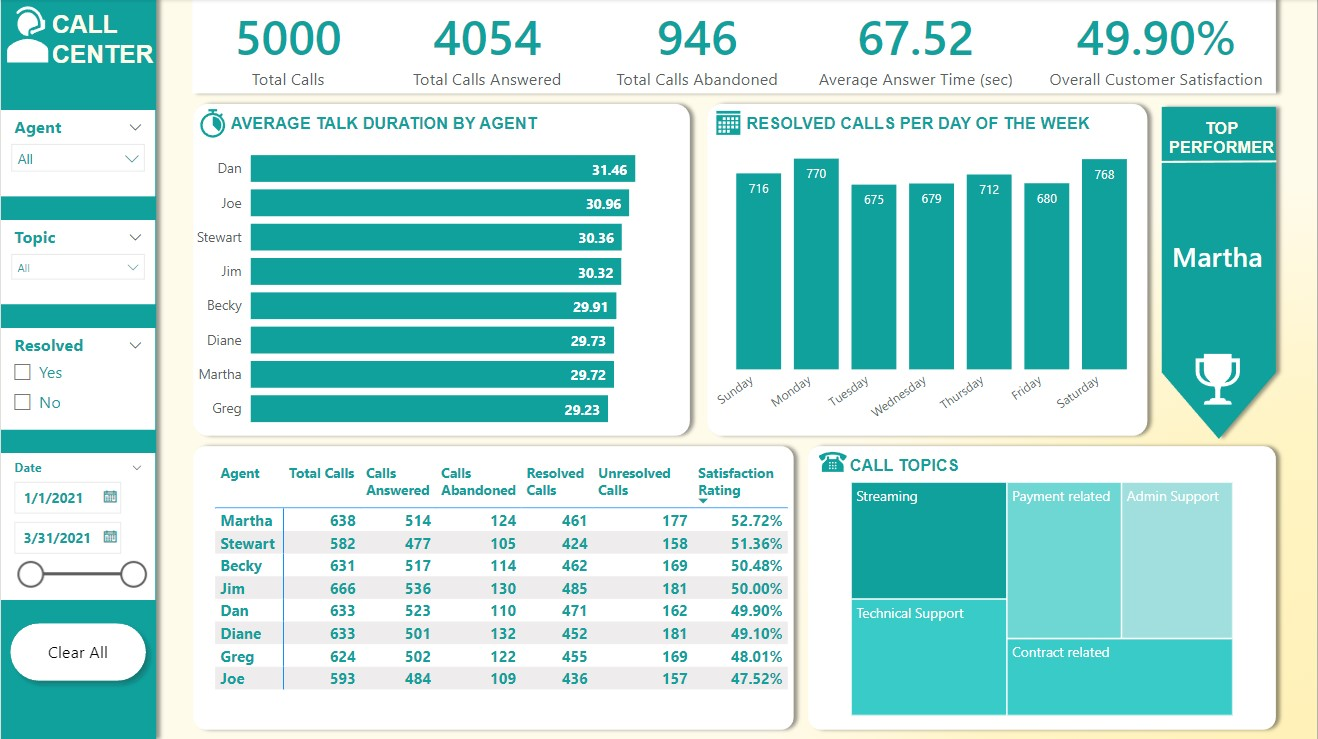

Layout of this report page (visuals, bound fields, positions):
{"tool":"powerbi","page":{"name":"Page 1","canvas":[1280,720],"ordinal":0},"visuals":[{"type":"card","fields":{"Values":["Call Center.Total Calls"]},"box":[203.4,0,152,91.2],"z":0},{"type":"card","fields":{"Values":["Call Center.Total Calls Unanswered"]},"box":[582.1,0,189.4,91.2],"z":1000},{"type":"card","fields":{"Values":["Call Center.Total Calls Answered"]},"box":[392.8,0,160.1,91.2],"z":2000},{"type":"card","fields":{"Values":["Call Center.Speed of answer in seconds"]},"box":[789,0,202.2,91.2],"z":3000},{"type":"card","fields":{"Values":["Call Center.Overall Customer Satisfaction"]},"box":[1012.3,0,222.1,91.2],"z":4000},{"type":"slicer","fields":{"Values":["Call Center.Agent"]},"box":[0,107.5,149.6,84.2],"z":5000},{"type":"slicer","fields":{"Values":["Call Center.Topic"]},"box":[0,215.1,149.6,81.8],"z":6000},{"type":"slicer","fields":{"Values":["Call Center.Resolved"]},"box":[0,320.3,149.6,99.4],"z":7000},{"type":"slicer","fields":{"Values":["Call Center.Date"]},"box":[0,441.9,149.6,142.6],"z":8000},{"type":"barChart","fields":{"Y":["Call Center.Average Talk Duration"],"Category":["Call Center.Agent"]},"box":[178.8,125.1,485.1,305.1],"z":9000},{"type":"columnChart","title":"Resolved Calls per day of the week","fields":{"Y":["Call Center.Resolved"],"Category":["Call Center.Day Name"]},"box":[687.3,133.3,436,296.9],"z":10000},{"type":"pivotTable","fields":{"Values":["Call Center.Total Calls","Call Center.Total Calls Answered","Call Center.Total Calls Unanswered","Call Center.ResolvedCalls","Call Center.UnresolvedCalls","Call Center.Overall Customer Satisfaction"],"Rows":["Call Center.Agent"]},"box":[203.4,445.4,568.1,257.2],"z":11000},{"type":"treemap","fields":{"Group":["Call Center.Topic"],"Values":["Call Center.Topic"]},"box":[821.8,465.2,381.1,237.3],"z":12000},{"type":"actionButton","box":[0,598.5,149.6,73.6],"z":13000},{"type":"card","fields":{"Values":["Call Center.Agent"]},"box":[1123.4,223.3,119.2,54.9],"z":13001}]}

Visuals, with their boxes in screenshot pixels (x1, y1, x2, y2), scaled from the page's 1280x720 canvas onto the 1318x739 screenshot:
card - Call Center.Total Calls: BBox(209, 0, 366, 94)
card - Call Center.Total Calls Unanswered: BBox(599, 0, 794, 94)
card - Call Center.Total Calls Answered: BBox(404, 0, 569, 94)
card - Call Center.Speed of answer in seconds: BBox(812, 0, 1021, 94)
card - Call Center.Overall Customer Satisfaction: BBox(1042, 0, 1271, 94)
slicer - Call Center.Agent: BBox(0, 110, 154, 197)
slicer - Call Center.Topic: BBox(0, 221, 154, 305)
slicer - Call Center.Resolved: BBox(0, 329, 154, 431)
slicer - Call Center.Date: BBox(0, 454, 154, 600)
barChart - Call Center.Average Talk Duration x Call Center.Agent: BBox(184, 128, 684, 442)
"Resolved Calls per day of the week" columnChart: BBox(708, 137, 1157, 442)
pivotTable - Call Center.Total Calls x Call Center.Total Calls Answered: BBox(209, 457, 794, 721)
treemap - Call Center.Topic x Call Center.Topic: BBox(846, 477, 1239, 721)
actionButton: BBox(0, 614, 154, 690)
card - Call Center.Agent: BBox(1157, 229, 1279, 286)
